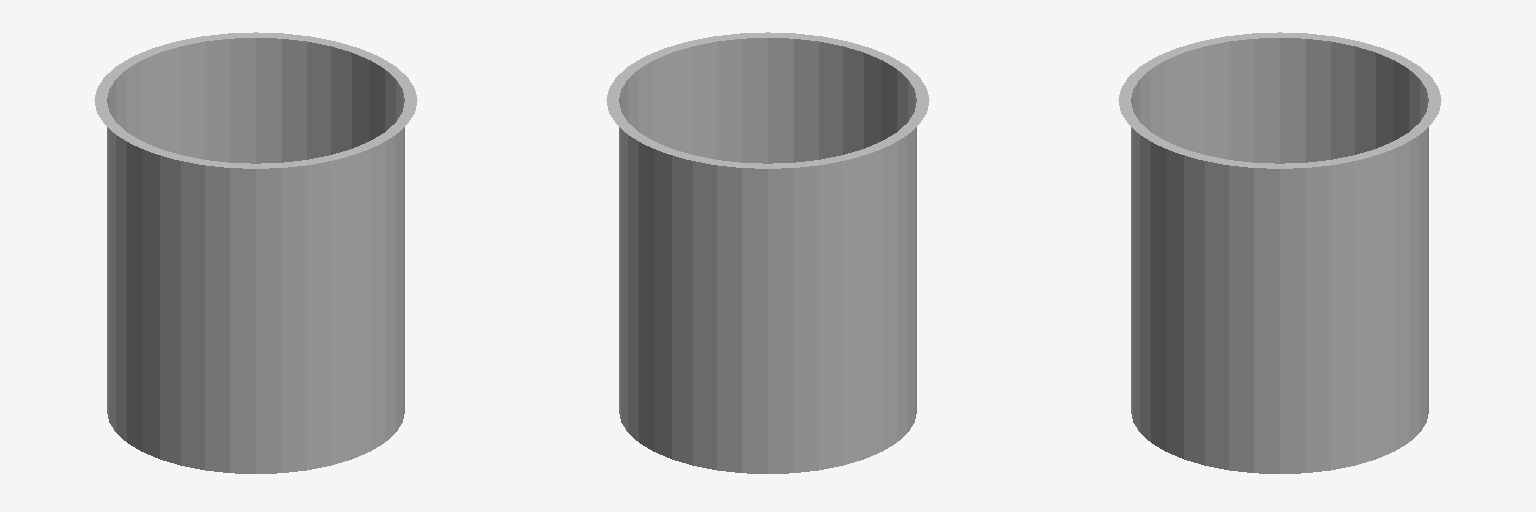
File: inside_mug.obj
The picture shows the model from 3 angles: view 1: azimuth 30°, elevation 25°; view 2: azimuth 150°, elevation 25°; view 3: azimuth 270°, elevation 25°; orthographic projection.
Parts seen in each view (by area): view 1: Porcelin_001_Porcelin.001; view 2: Porcelin_001_Porcelin.001; view 3: Porcelin_001_Porcelin.001.
Part boxes in pixels (x1,y1,x2,y2): Porcelin_001_Porcelin.001: (94, 32, 417, 473); Porcelin_001_Porcelin.001: (606, 32, 929, 473); Porcelin_001_Porcelin.001: (1118, 32, 1441, 473).
Bounding box in the file's own units: 6.14 × 6.51 × 6.14.